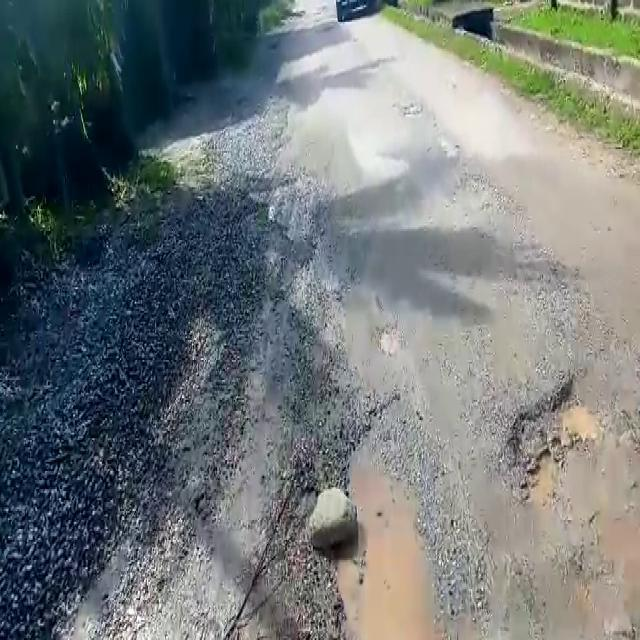pothole: (328, 447, 445, 640), (504, 375, 598, 509)
